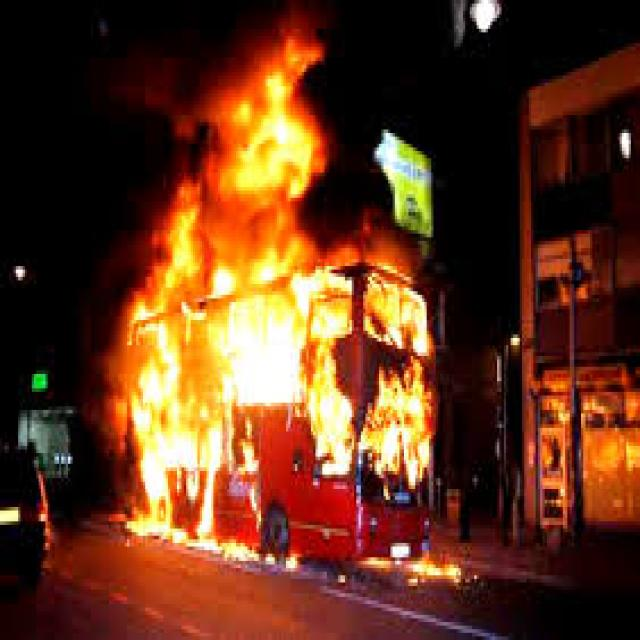Fire: (127, 38, 449, 606)
